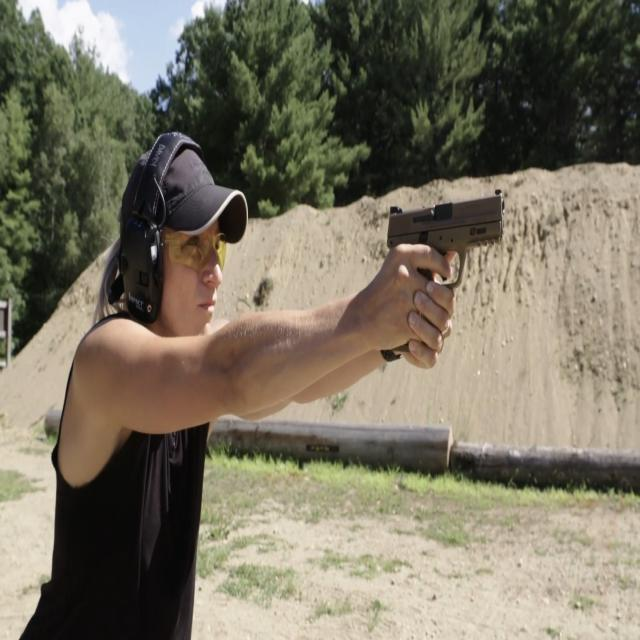Gun_Holder: (363, 164, 508, 344)
Person: (30, 126, 433, 640)
